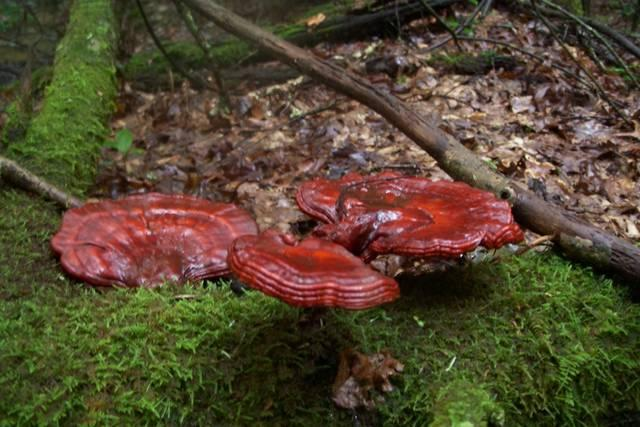Non-edible Mushroom: (283, 159, 524, 257), (49, 190, 259, 290), (226, 227, 401, 311)
